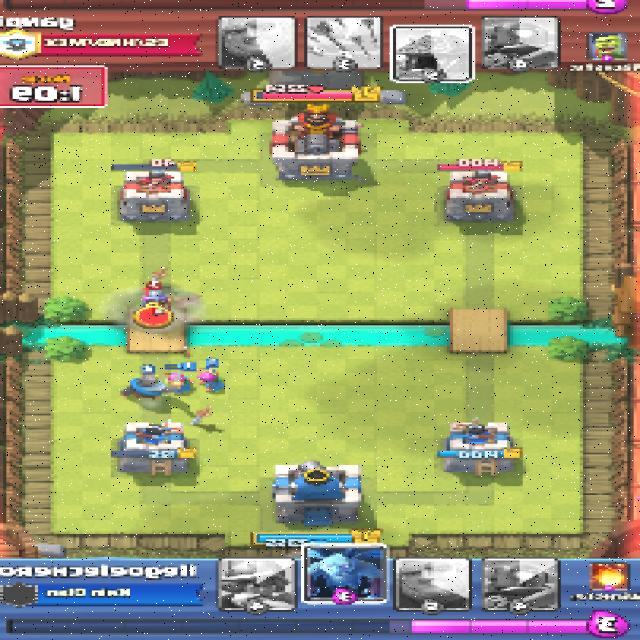Enemy-Musketeer: (142, 290, 172, 312)
Player-Archer: (199, 371, 224, 391), (172, 373, 194, 392)
Player-Knight: (118, 376, 183, 400)
